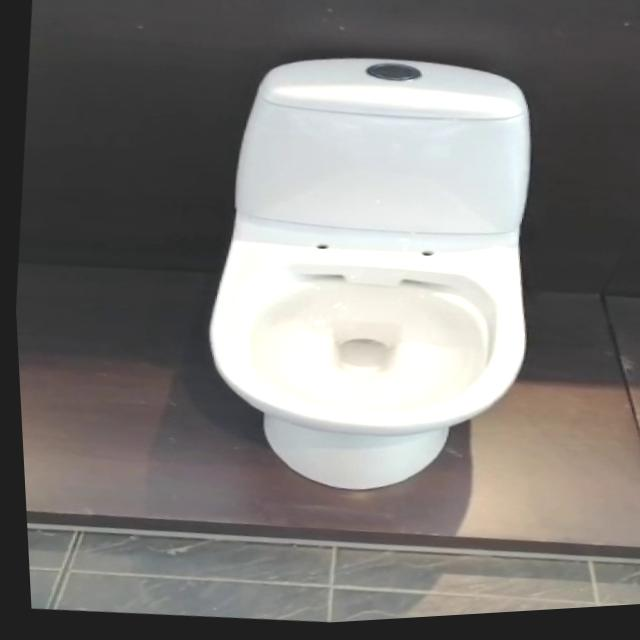toilet: (179, 38, 558, 518)
